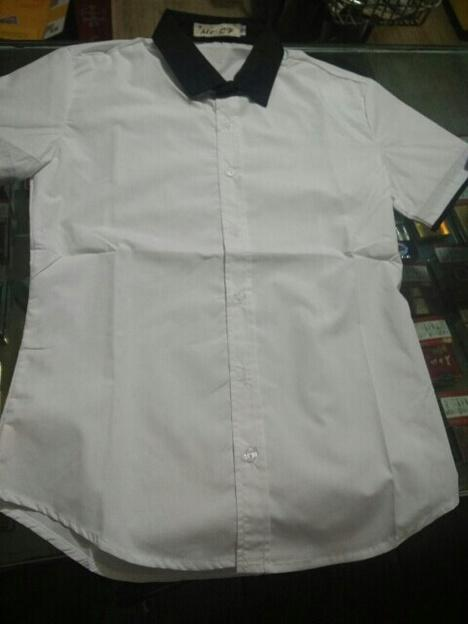S_shirt: (1, 12, 468, 587)
